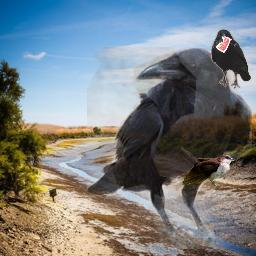Crow: (87, 47, 252, 249), (211, 29, 251, 89)
Cuckoo: (181, 133, 237, 188)
